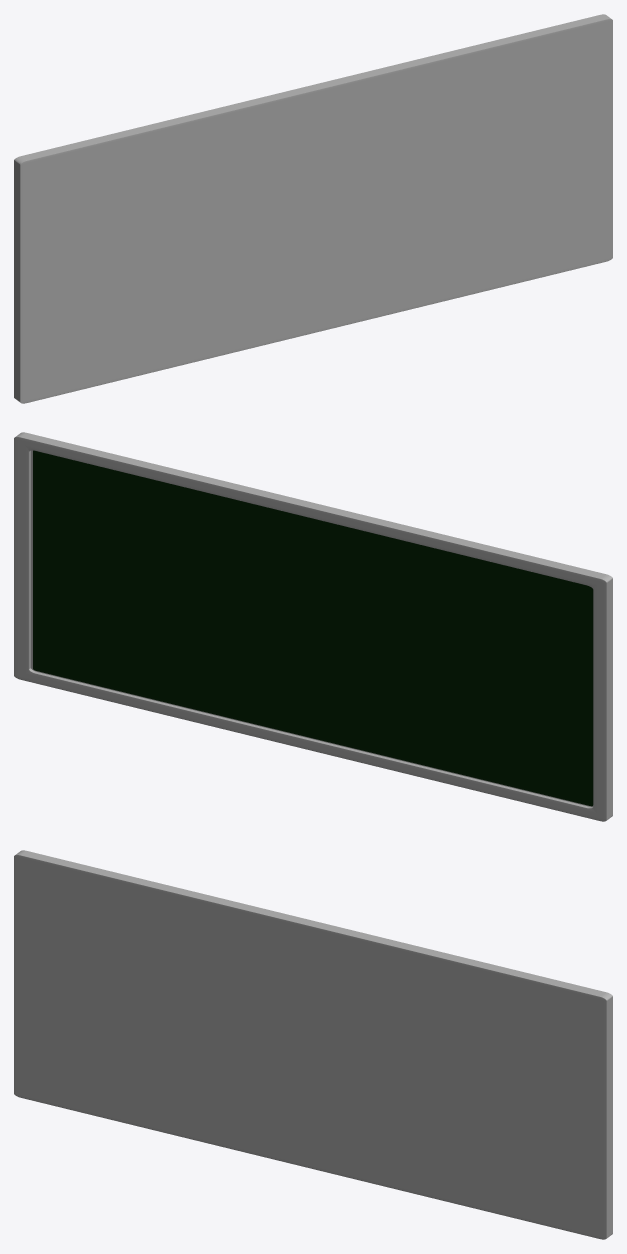
Rendered from black_board.fbx.
3 renders of one model, top to bottom at view 1: azimuth 30°, elevation 25°; view 2: azimuth 150°, elevation 25°; view 3: azimuth 330°, elevation 25°, orthographic.
Visible parts, largest first — view 1: Cube; view 2: Cube; view 3: Cube.
Part boxes in pixels (left/top/right/bottom): Cube: left=14, top=14, right=612, bottom=403; Cube: left=14, top=432, right=612, bottom=821; Cube: left=14, top=850, right=612, bottom=1239.
Bounding box in the file's own units: 369 × 6.9 × 144.
